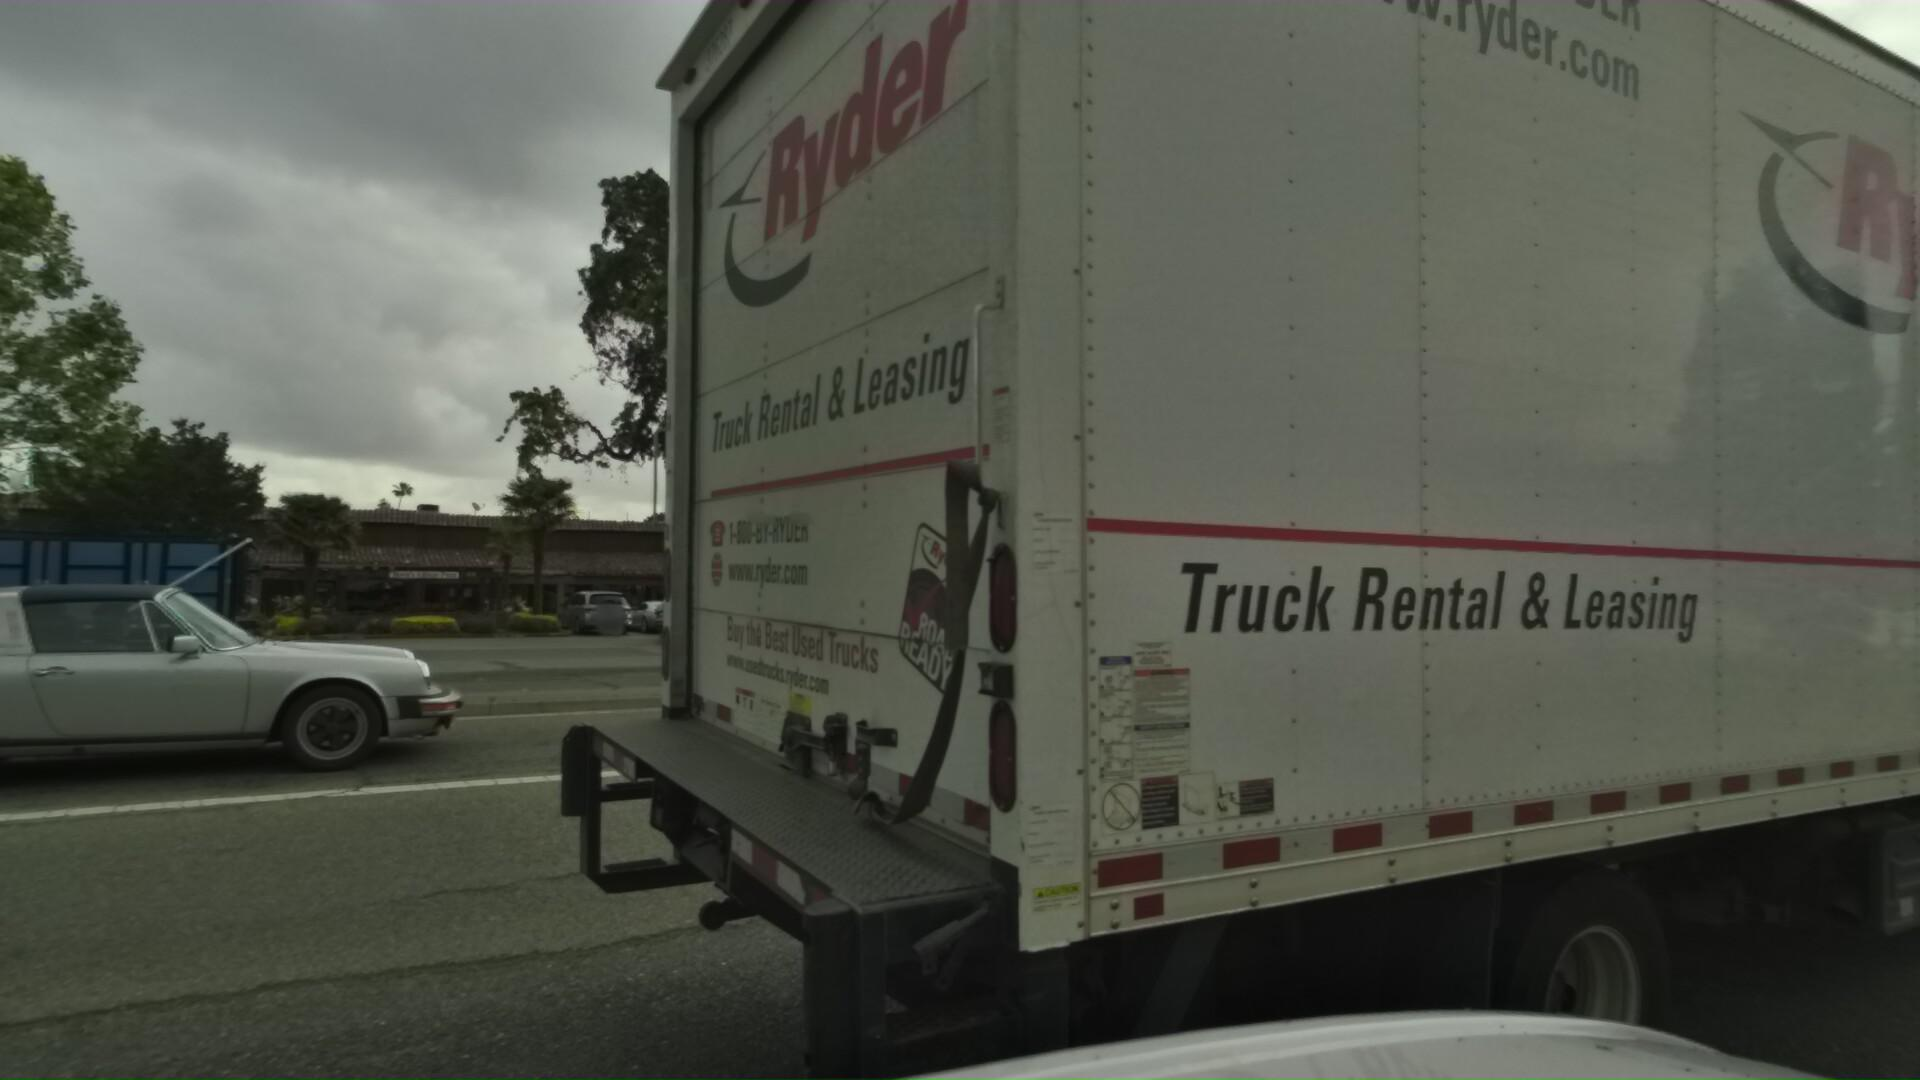car: (0, 550, 455, 839), (665, 553, 1182, 752), (1634, 568, 1908, 680), (1865, 563, 1920, 670), (1745, 593, 1854, 636)
truck: (624, 0, 1920, 1080), (0, 498, 245, 699)
